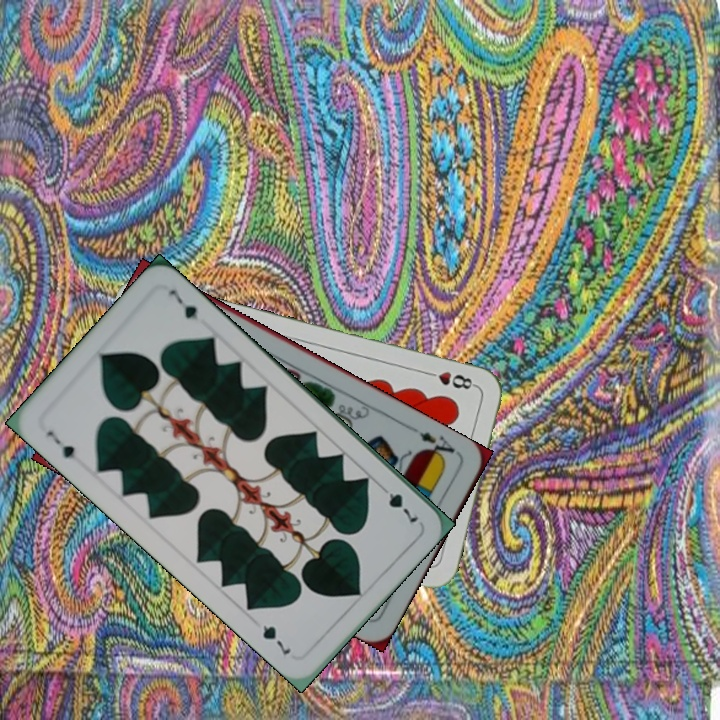EA: (415, 427, 462, 464)
G7: (374, 480, 421, 525), (42, 426, 78, 462)
H8: (421, 367, 479, 392)
